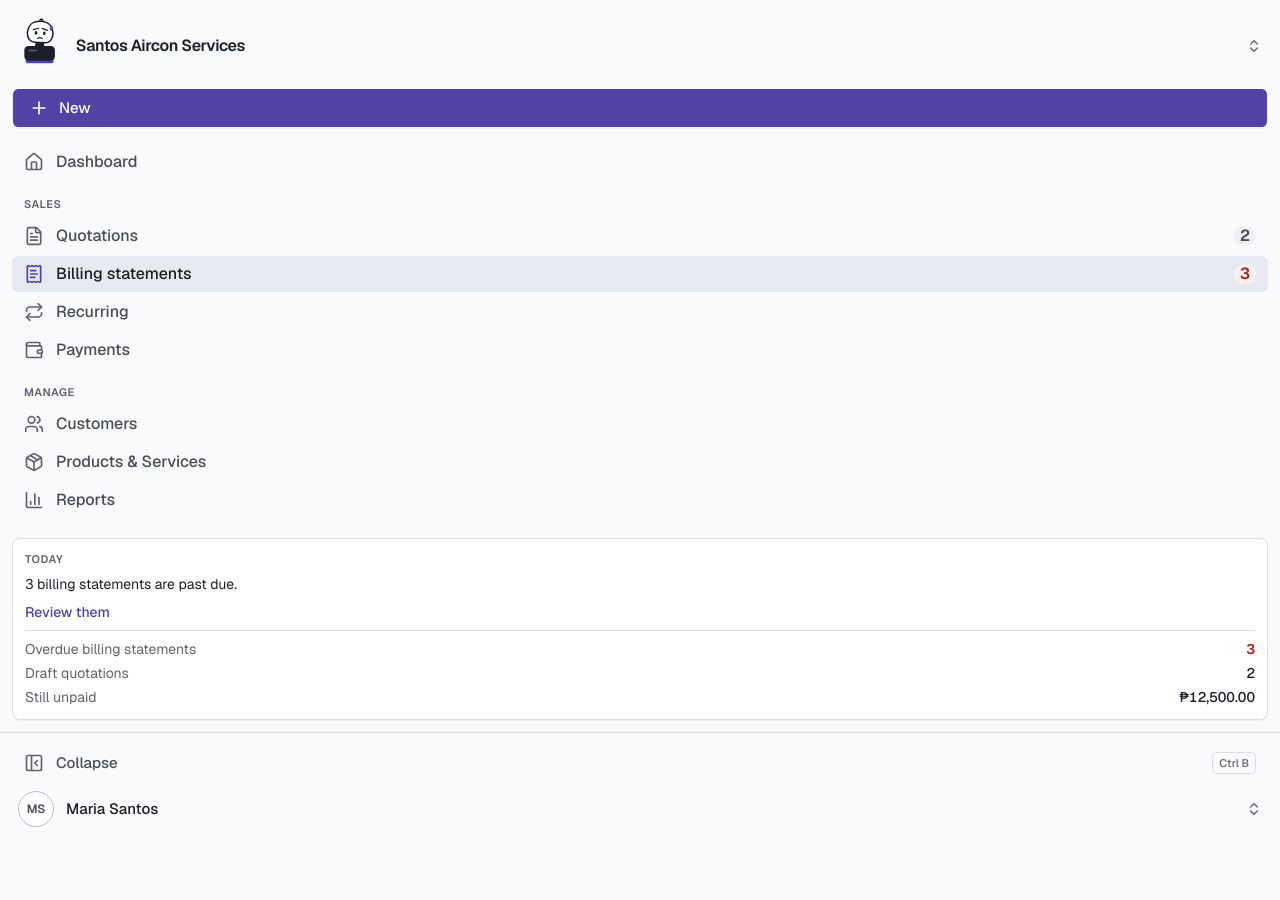
Scenario: sidebar › keeps the email out of the foot of the sidebar, in the menu behind the name
The width and height of the screenshot is (1280, 900).
Expected: the text "maria@example.com" is not shown
Press the mouse on the button "MS Maria Santos" at {"x": 36, "y": 809}, box [12,785,1268,833]
Click the button "MS Maria Santos".
click(36, 809)  # box [12,785,1268,833]
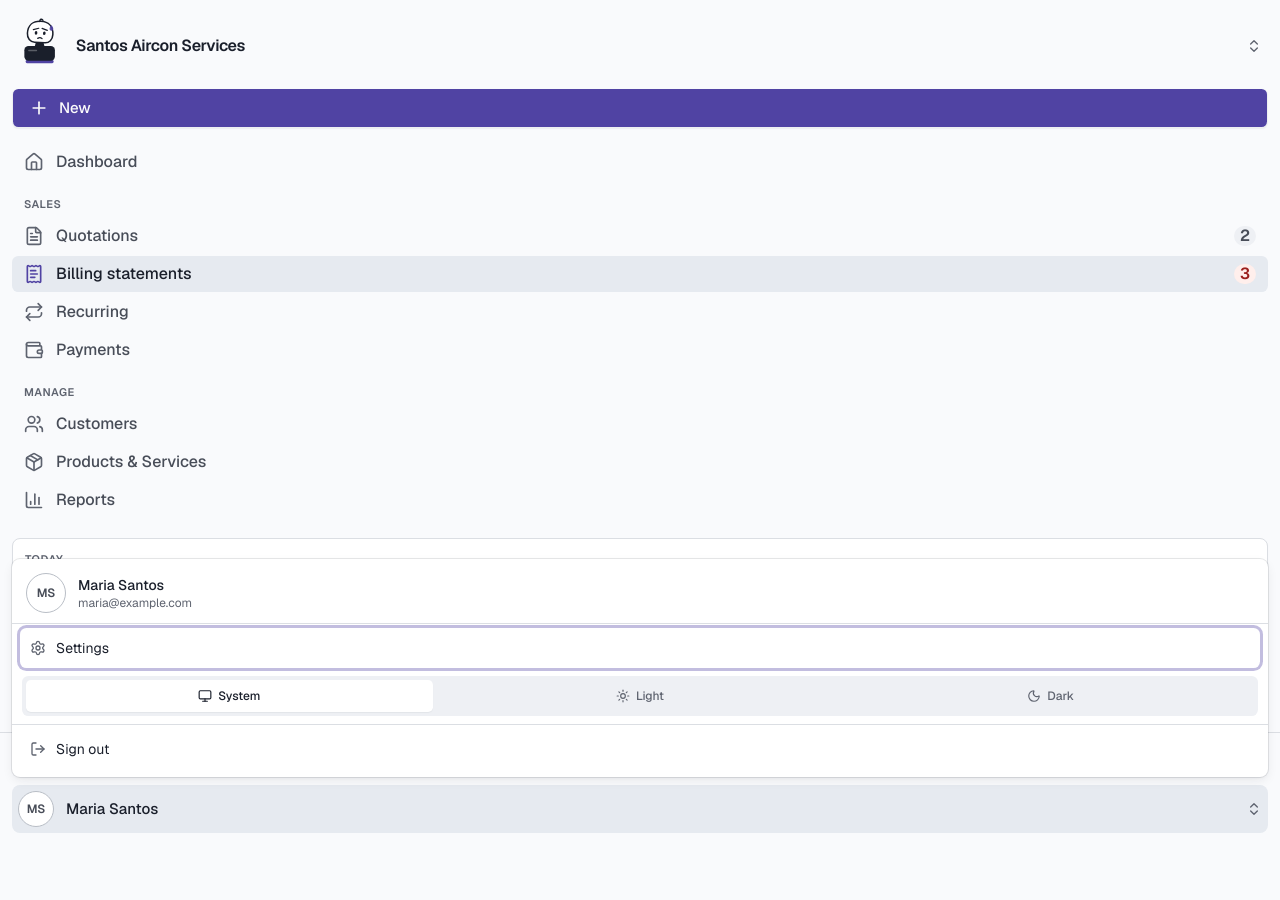
Now the text "maria@example.com" is shown, box [78,595,192,611]
Now the link "Settings" is shown, box [20,628,1260,668]
Now the element named "Theme" is shown, box [22,676,1258,716]
